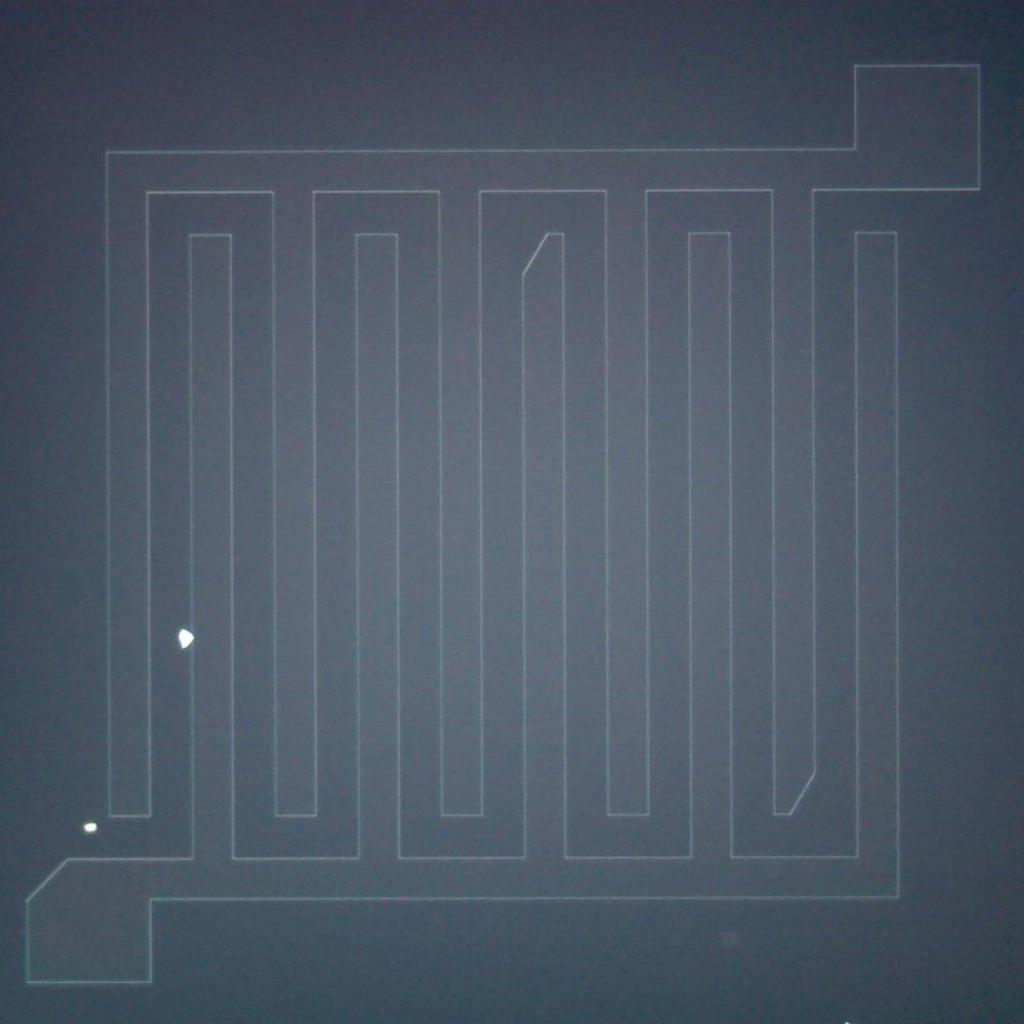edge circuit: (14, 844, 86, 916), (766, 758, 833, 826), (510, 219, 574, 284)
spot: (171, 623, 201, 657), (76, 812, 107, 839)
